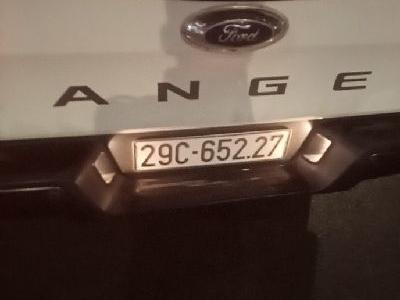lisence: (131, 127, 292, 172)
